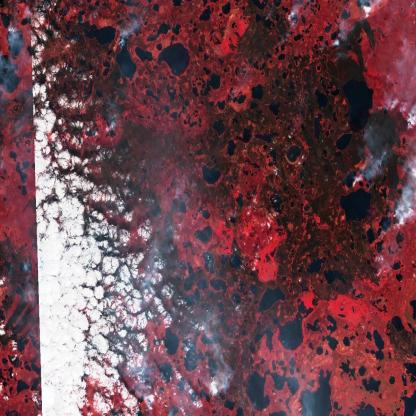fire: (15, 254, 41, 302), (387, 201, 416, 239), (202, 378, 232, 414), (110, 27, 138, 65), (143, 395, 182, 416), (351, 0, 380, 28), (396, 107, 416, 146), (319, 31, 346, 59), (278, 8, 302, 37)
